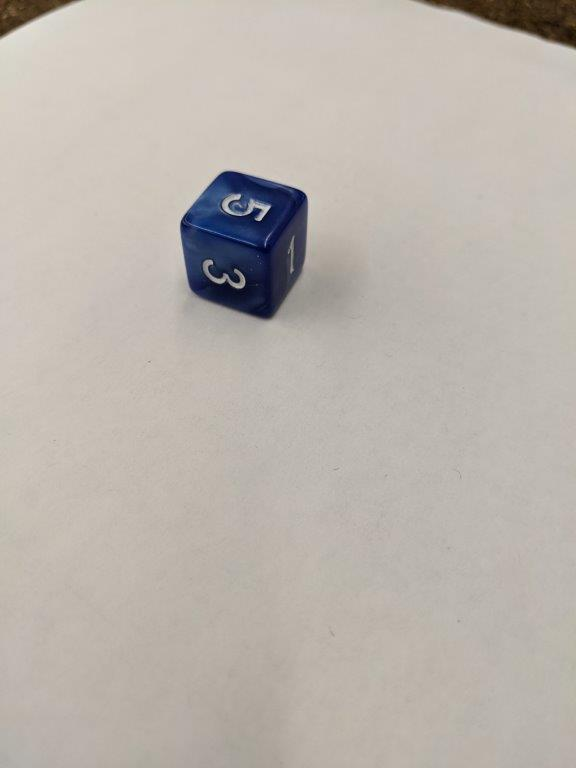d6-5: (179, 169, 311, 319)
